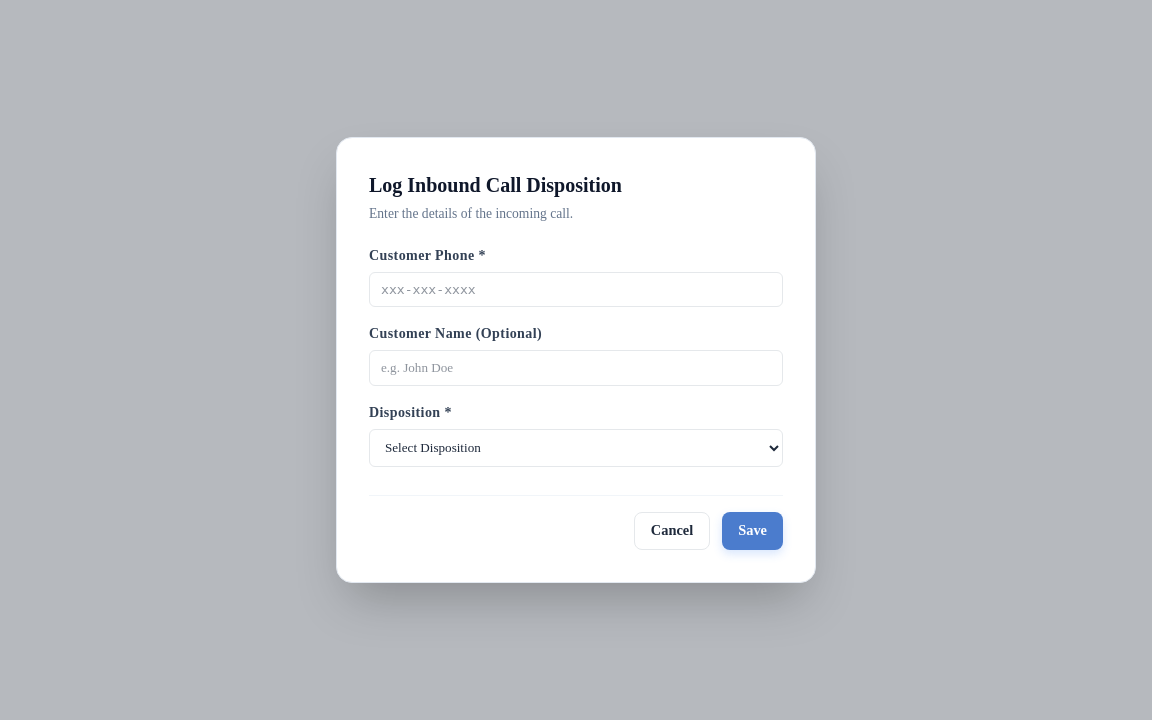
Test case: AddDispositionModal Unit Tests › validates required fields and shows error messages
Click the button "Save": [753, 531] box [722,512,783,550]
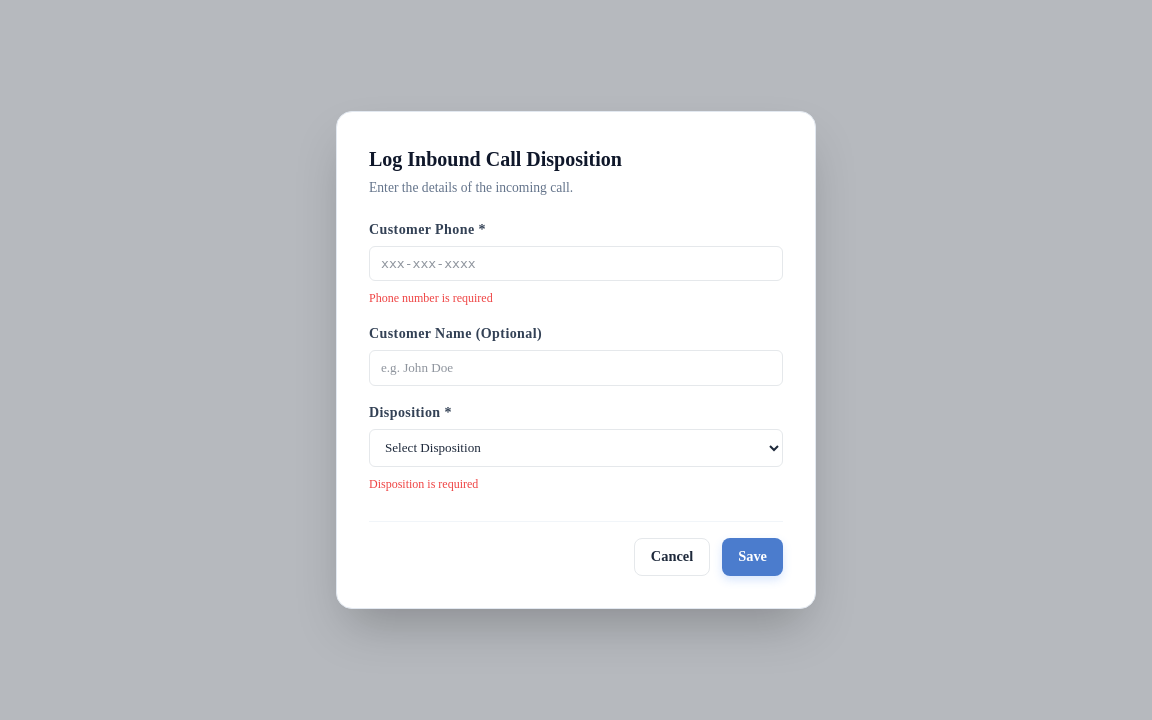
expect the text "Phone number is required" is shown: met, box [369,291,493,305]
expect the text "Disposition is required" is shown: met, box [369,477,478,491]
